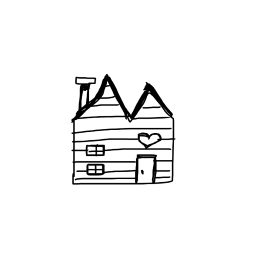chimney: (67, 66, 98, 112)
closed_window: (83, 140, 108, 159), (84, 162, 110, 178)
door: (133, 152, 161, 190)
roof: (64, 68, 179, 123)
small_house: (1, 1, 260, 260)
wall: (69, 112, 179, 189)
